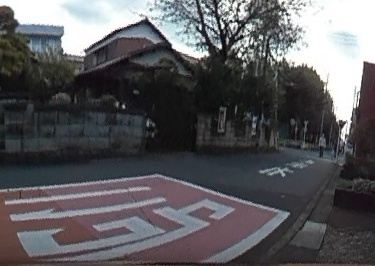person: (315, 130, 326, 156)
